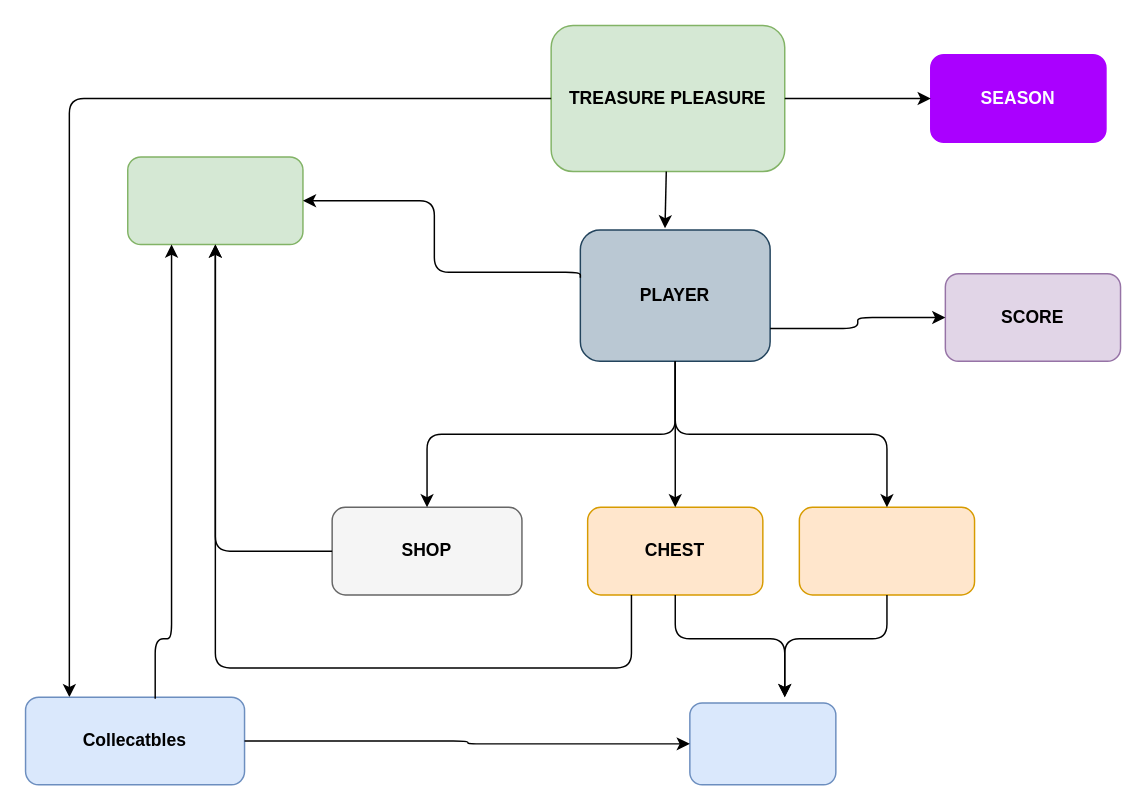
The diagram is 1146 pixels wide and 810 high, and some of its shapes have lost their labels. Here are the shapes that lost their labels. From the top down, the centre of each, then its label:
point 214,200: REAL WORLD LOCATION
point 886,550: BACKPACK
point 762,743: Item
